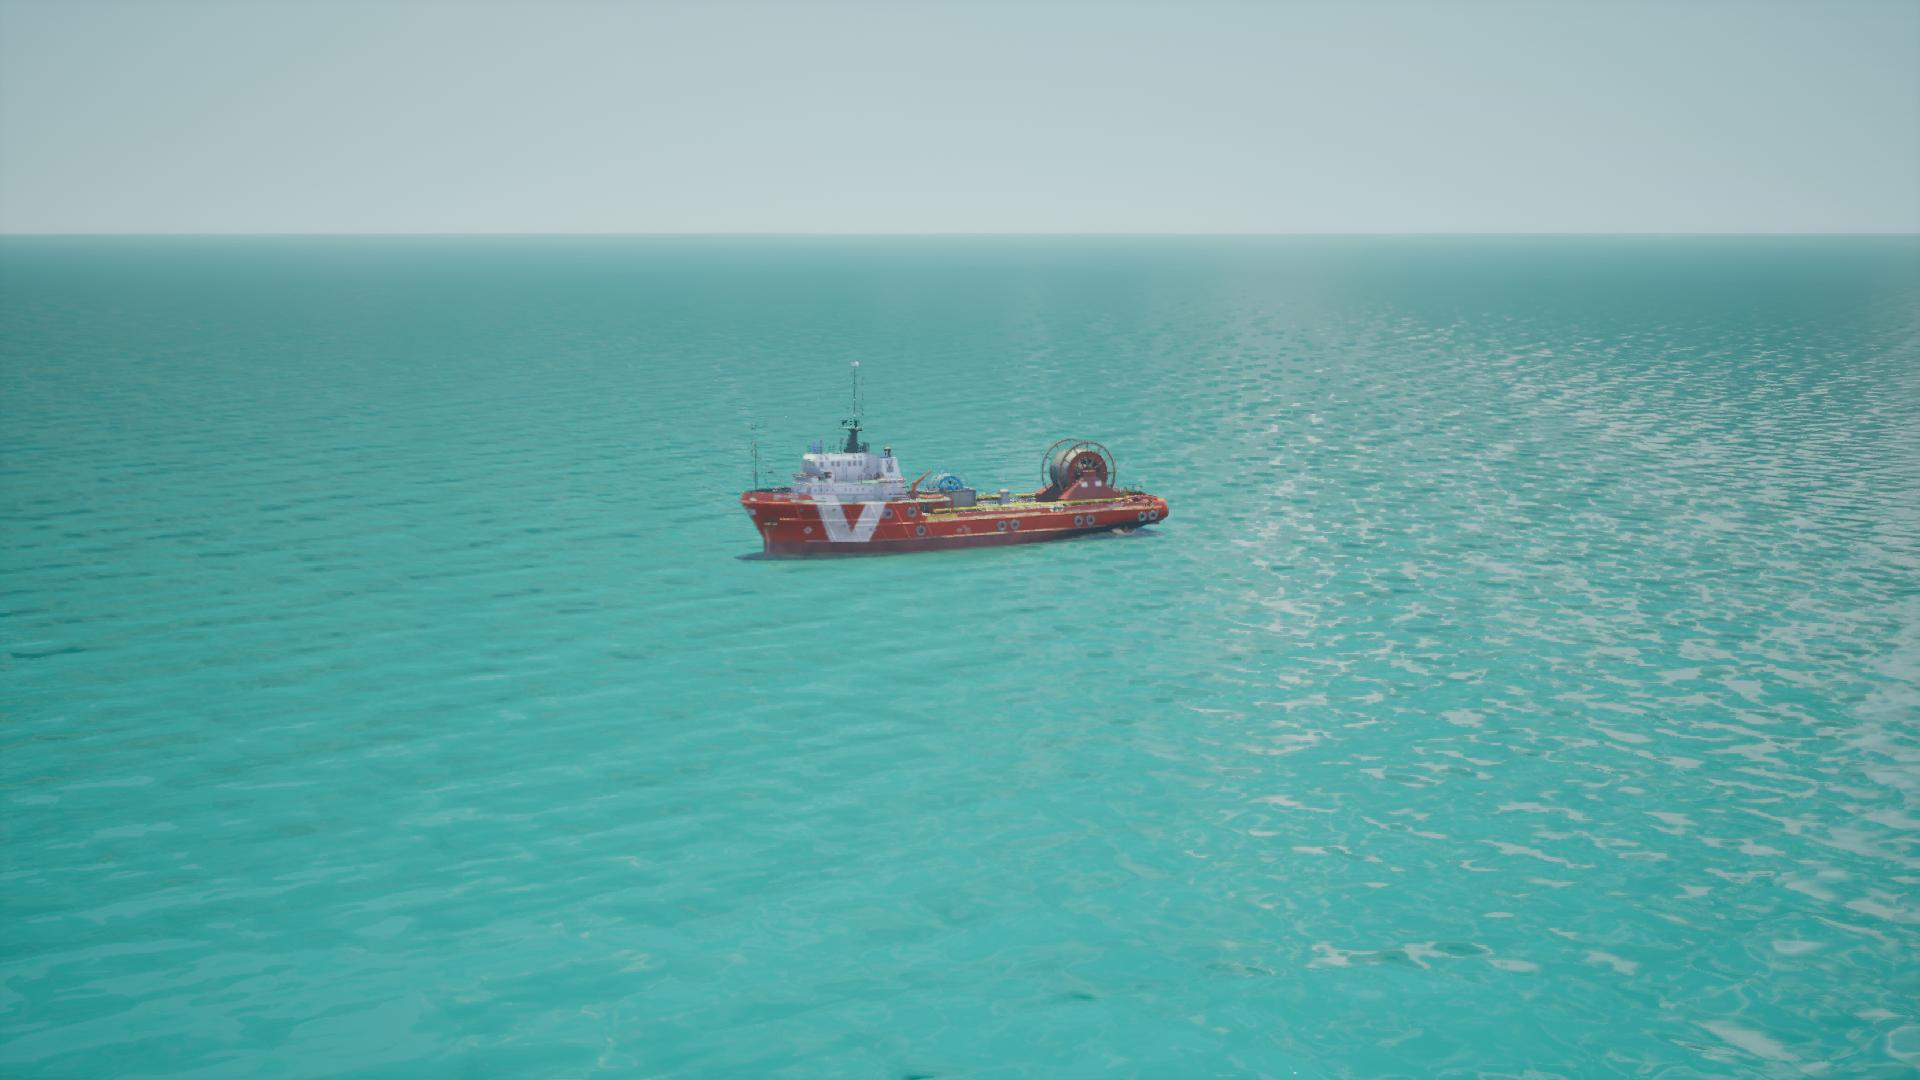Tug Boat: (732, 363, 1171, 568)
